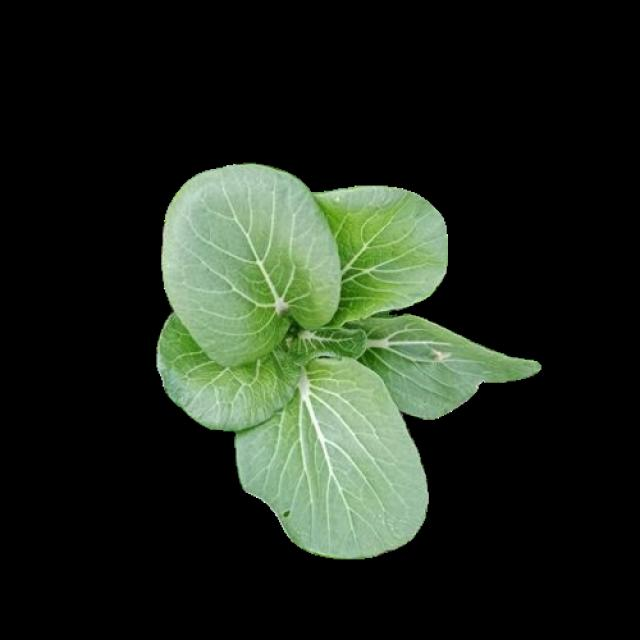not-mature: (159, 164, 541, 555)
unhealthy: (234, 343, 425, 552), (319, 296, 541, 421)
